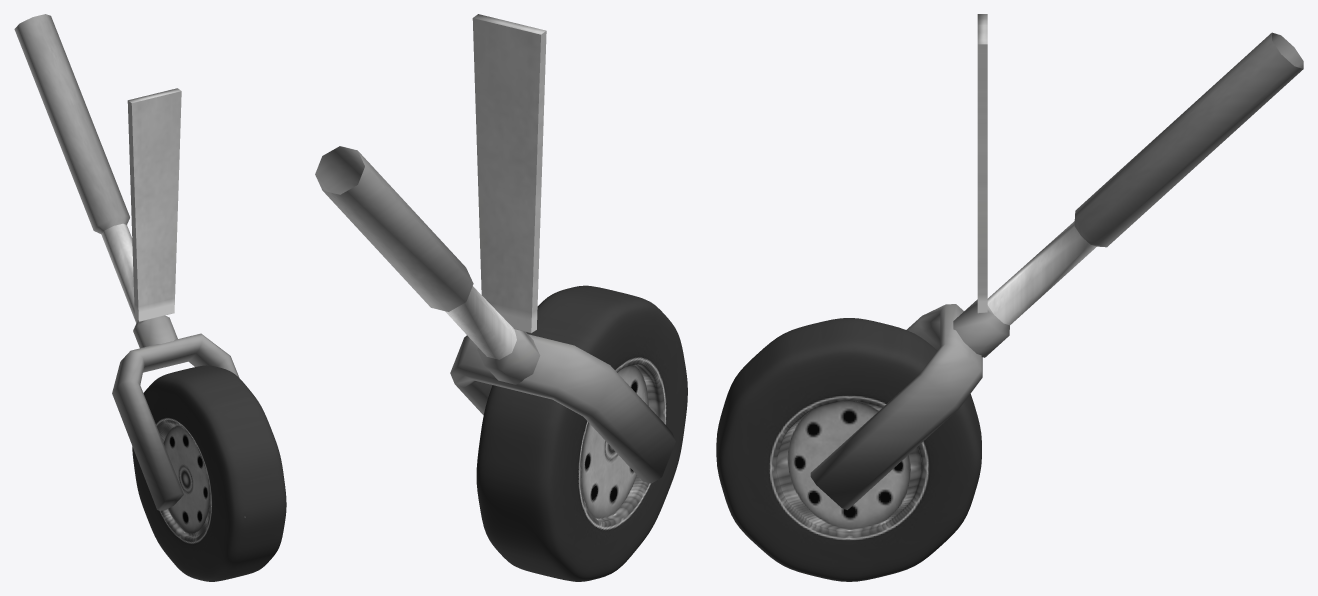
The model's file is NoseGearFull.fbx.
3 renders of one model, left to right at view 1: azimuth 30°, elevation 25°; view 2: azimuth 150°, elevation 25°; view 3: azimuth 270°, elevation 25°, orthographic. The views are drawn at different scales.
Parts seen in each view (by area): view 1: NoseGear; view 2: NoseGear; view 3: NoseGear.
Part boxes in pixels (x1,y1,x2,y2): NoseGear: (14, 14, 286, 581); NoseGear: (315, 14, 687, 581); NoseGear: (716, 14, 1303, 581).
Size of the model in its own units: 9.71 by 36.86 by 36.28.
